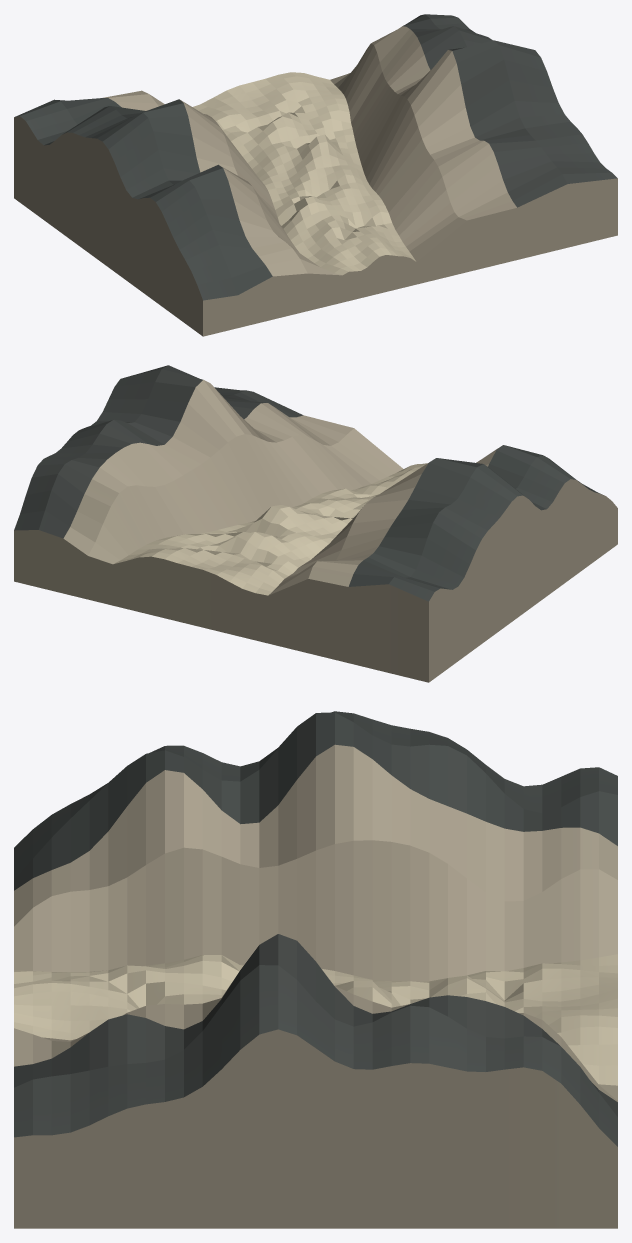
The picture shows the model from 3 angles, top to bottom: view 1: azimuth 30°, elevation 25°; view 2: azimuth 150°, elevation 25°; view 3: azimuth 270°, elevation 25°; orthographic projection. The views are drawn at different scales.
Visible parts, largest first — view 1: siachen; view 2: siachen; view 3: siachen.
Part boxes in pixels (x1=…): siachen: x1=14, y1=14, x2=617, y2=336; siachen: x1=14, y1=365, x2=617, y2=682; siachen: x1=14, y1=711, x2=617, y2=1228.
Bounding box in the file's own units: 7.6 × 2.53 × 6.
1 material, 1 textured.
